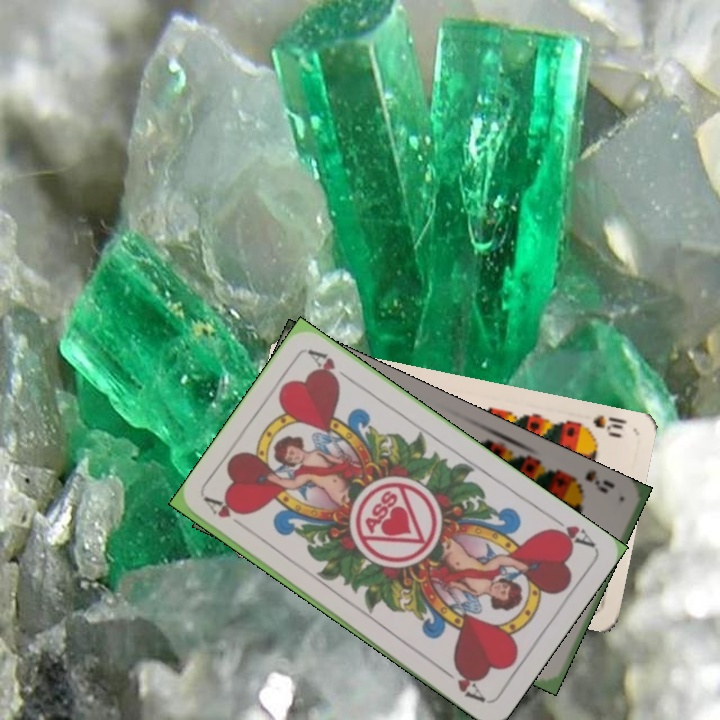HA: (542, 510, 597, 550), (201, 493, 253, 535)
S10: (574, 411, 629, 440)
S9: (564, 467, 617, 496)
